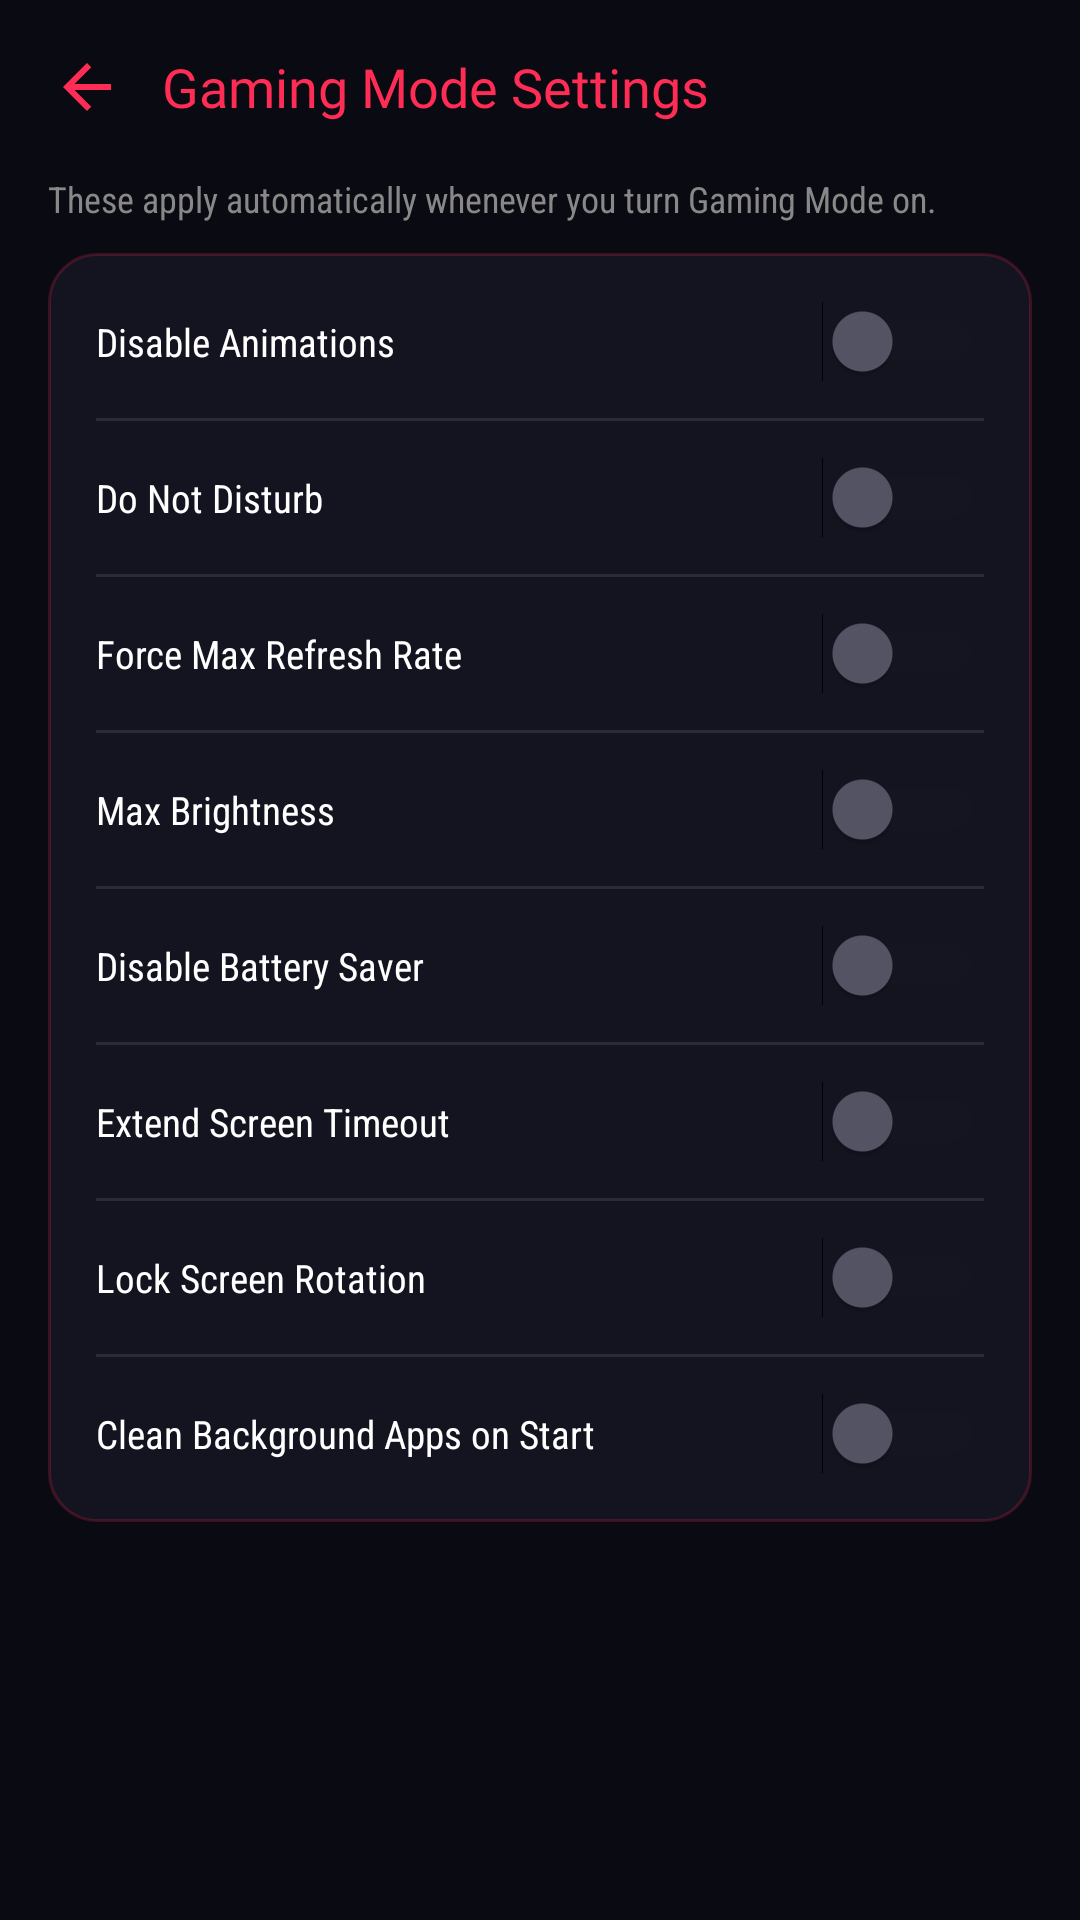

Icons on this 1080w x 1920h Android screen, each with its box as bbox(x1, y1, x2, y2):
Back: bbox(63, 63, 111, 111)
